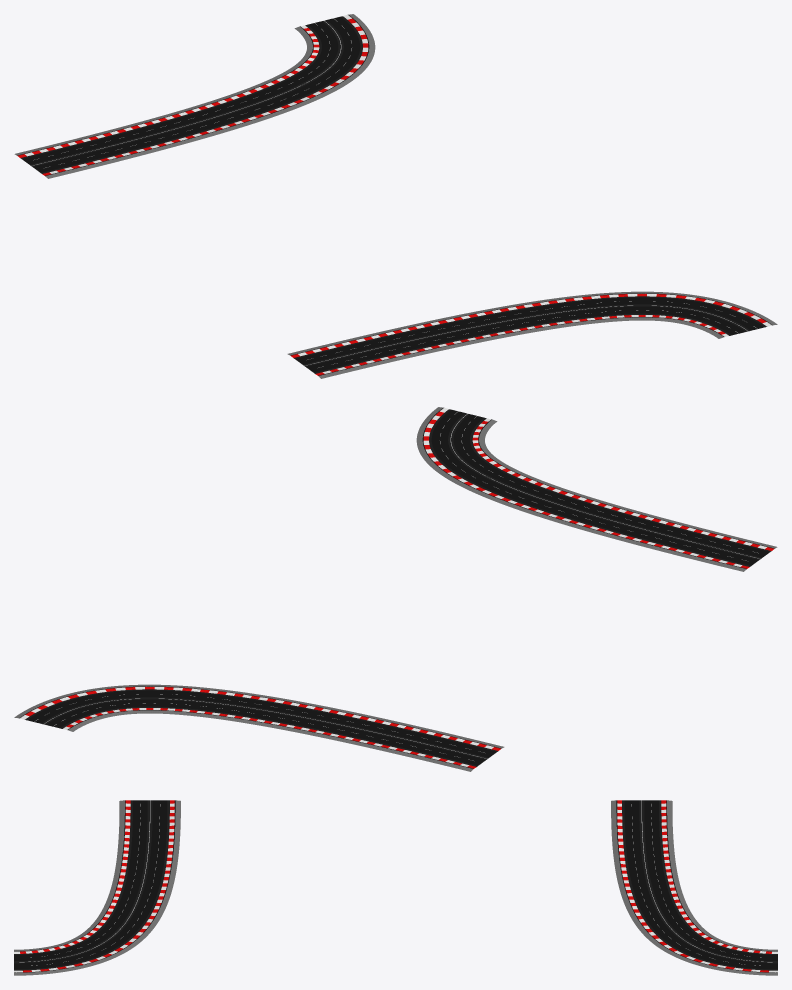
3 views of the same model, one above another, from view 1: azimuth 30°, elevation 25°; view 2: azimuth 150°, elevation 25°; view 3: azimuth 270°, elevation 25° (orthographic). The views are drawn at different scales.
Parts seen in each view (by area): view 1: Grid, Grid.002; view 2: Grid.002, Grid; view 3: Grid, Grid.002.
Part boxes in pixels (x1,y1,x2,y2): Grid: [287, 291, 777, 378]; Grid.002: [14, 14, 375, 178]; Grid.002: [14, 684, 504, 771]; Grid: [416, 407, 777, 571]; Grid: [14, 800, 180, 975]; Grid.002: [611, 800, 777, 975].
Bounding box in the file's own units: 168 × 0.31 × 311.
